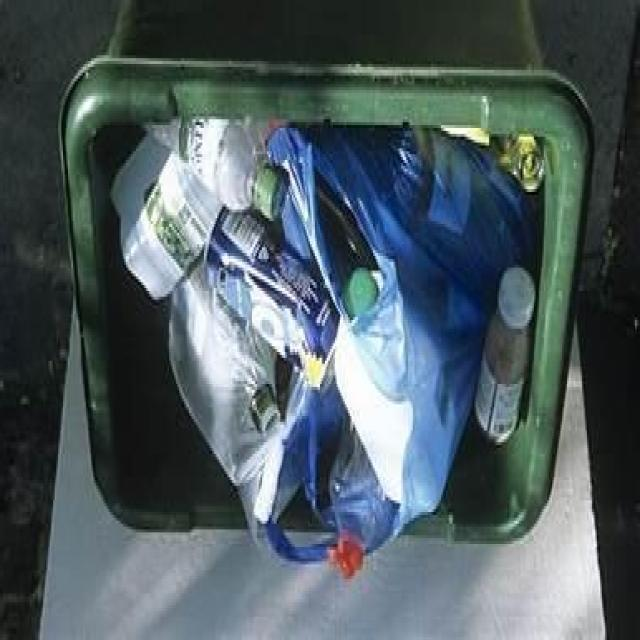Garbage: (111, 119, 545, 579)
Glass_bottle: (475, 266, 535, 443)
Plastic_Bag: (170, 128, 534, 563)
Plastic_bottle: (111, 119, 282, 298), (329, 424, 399, 581)
Tetrapack: (209, 210, 339, 388)
